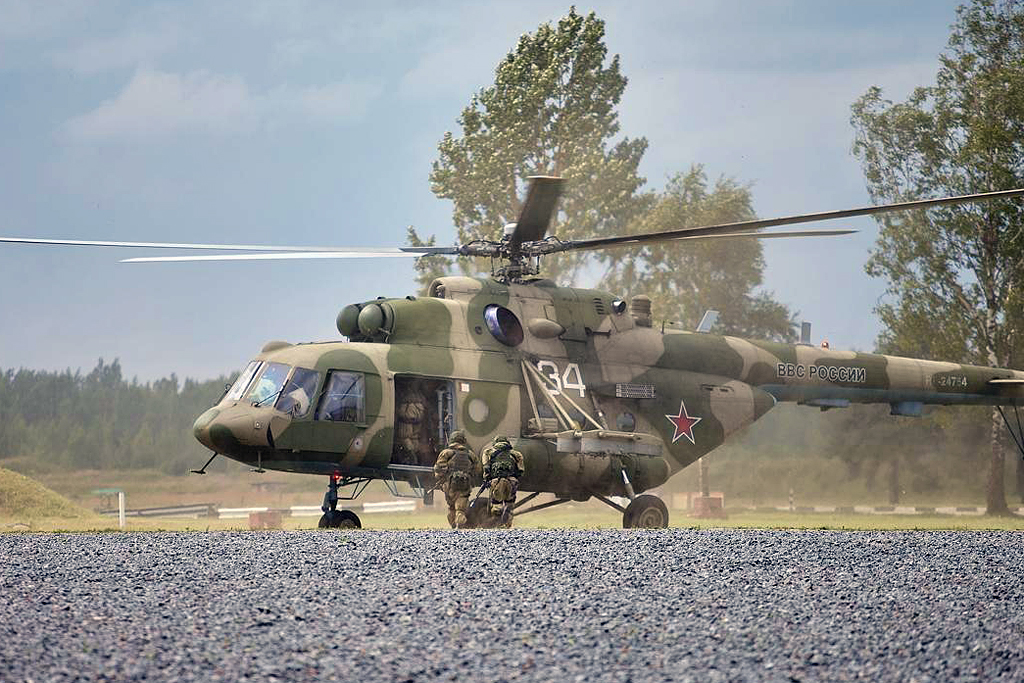number: (536, 358, 588, 400), (922, 370, 971, 393)
